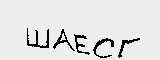А: (51, 28, 73, 53)
Г: (117, 35, 142, 59)
Е: (73, 32, 90, 58)
С: (92, 36, 115, 58)
Ш: (24, 28, 51, 49)
